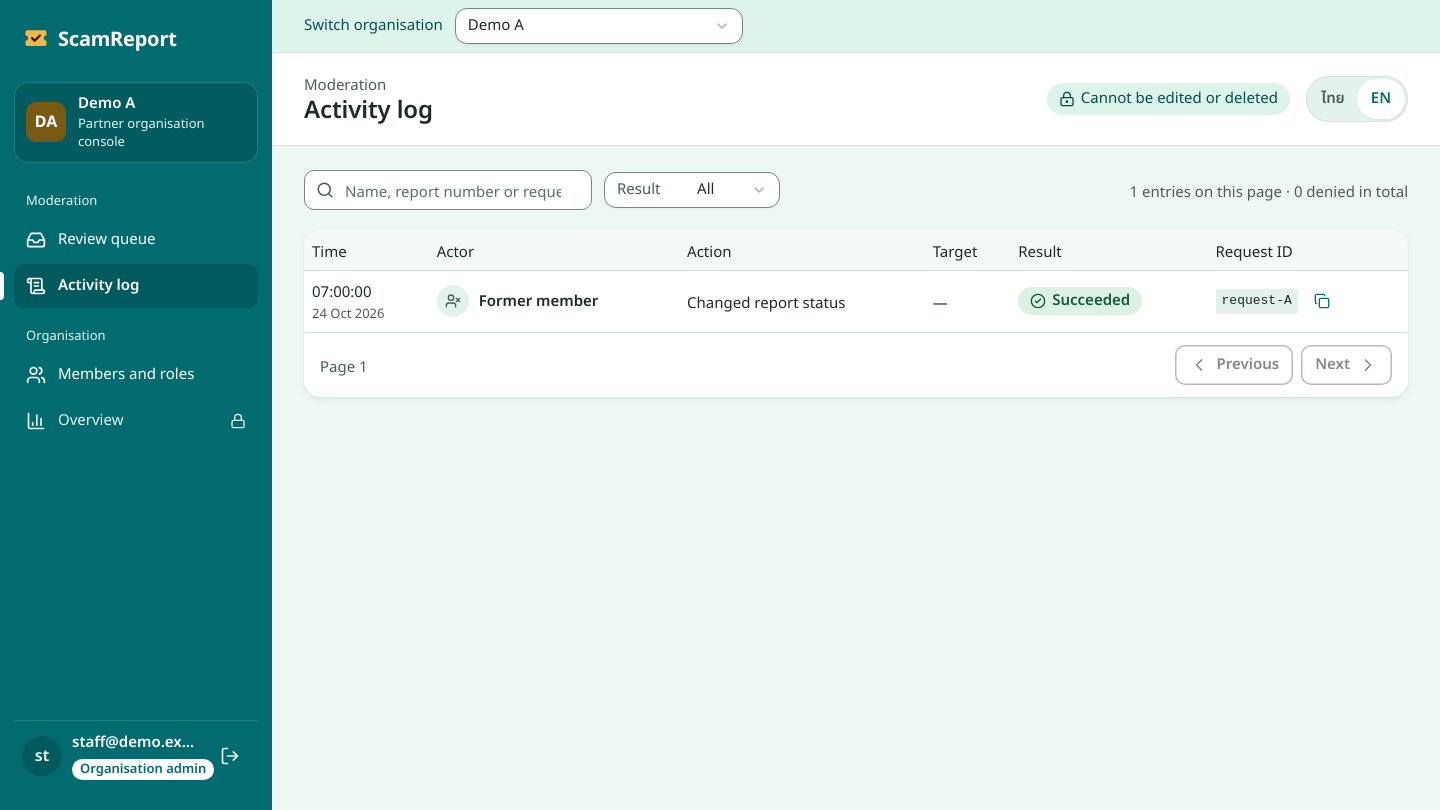
Test: changing Activity organization hides the previous organization rows
Expected: the text "request-A" is shown, [1216,289,1298,314]
Press ArrowDown in the dropdown named "Switch organisation", box [455,8,743,44]
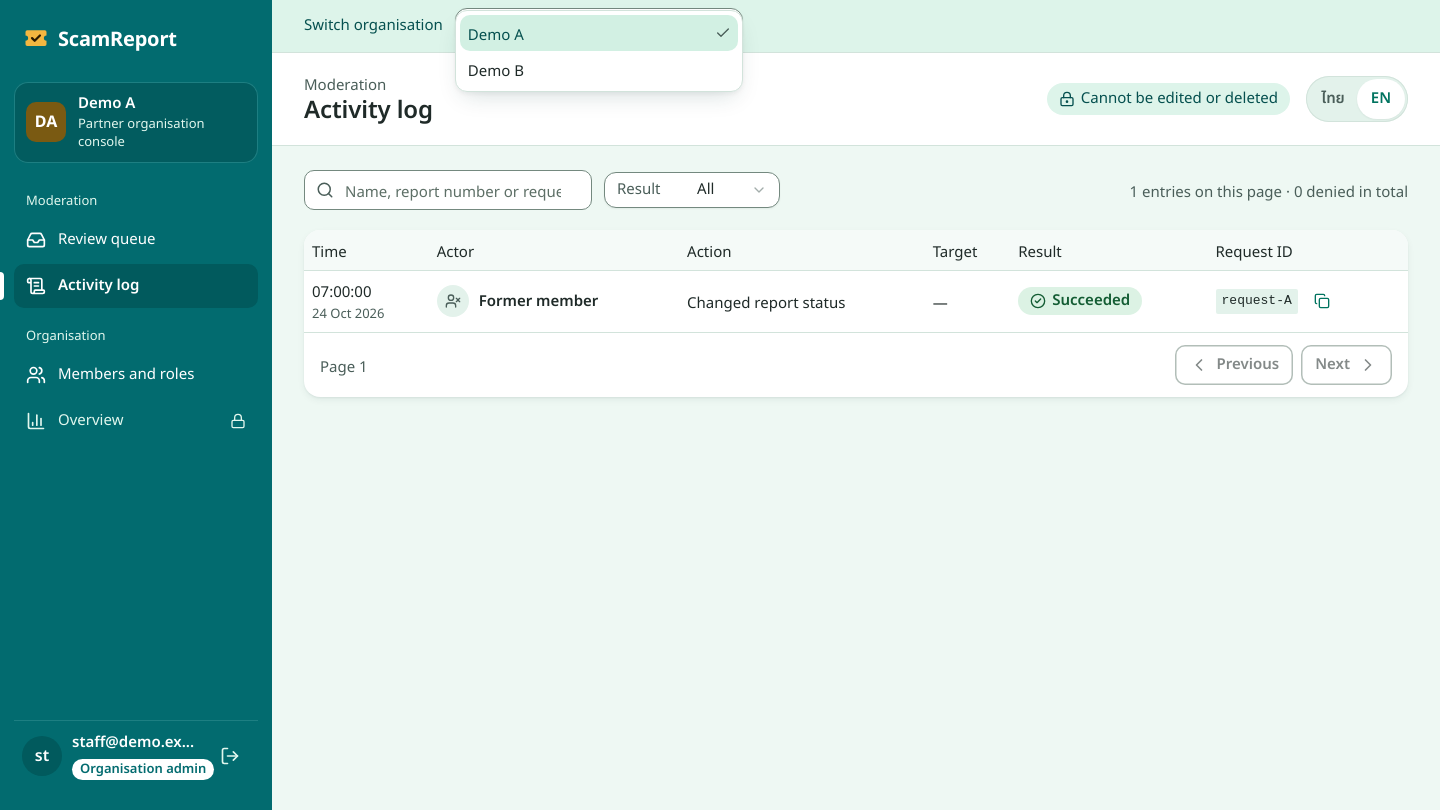
Click the option "Demo B". click: (496, 69)
box: [468,57,524,81]
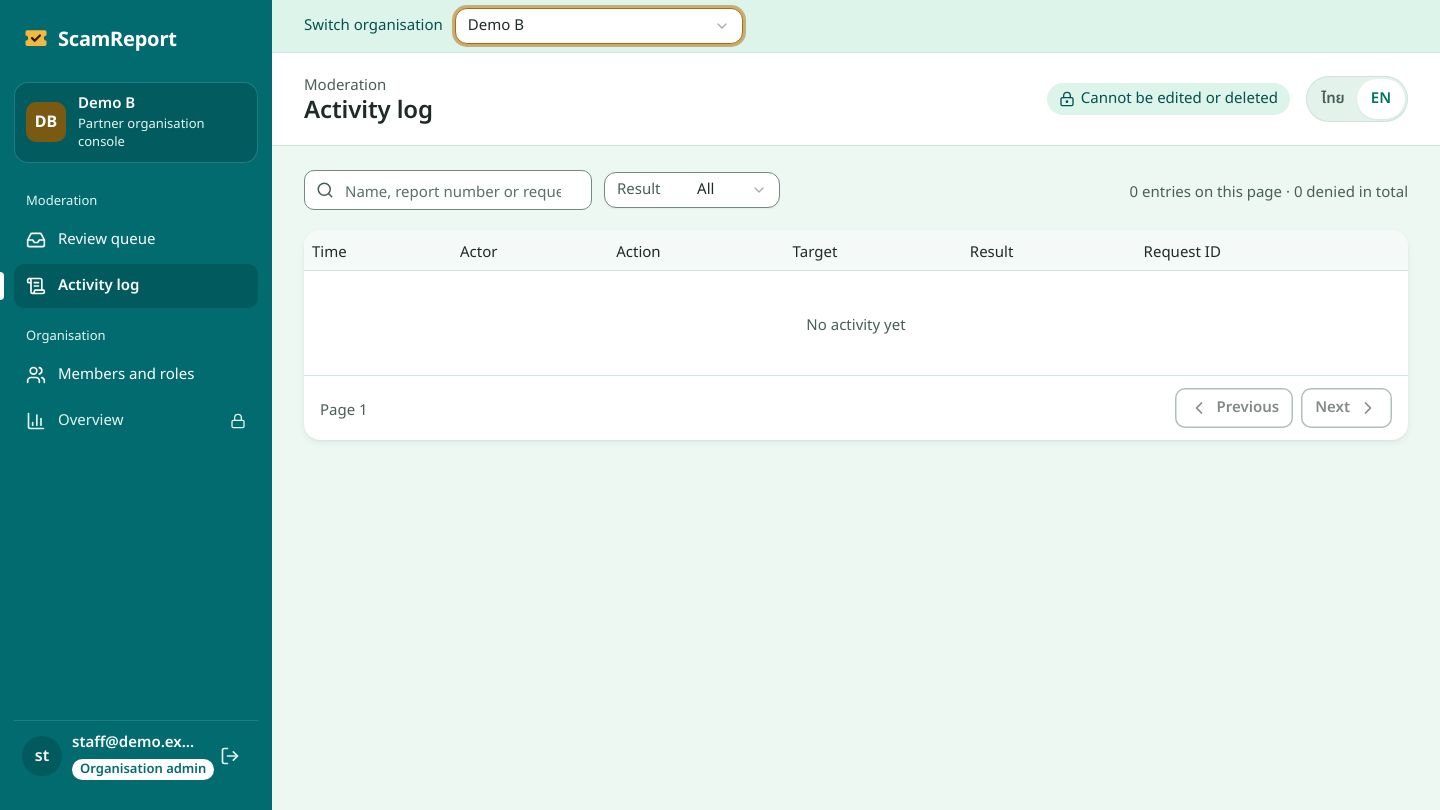
Expected: the text "request-A" is gone
